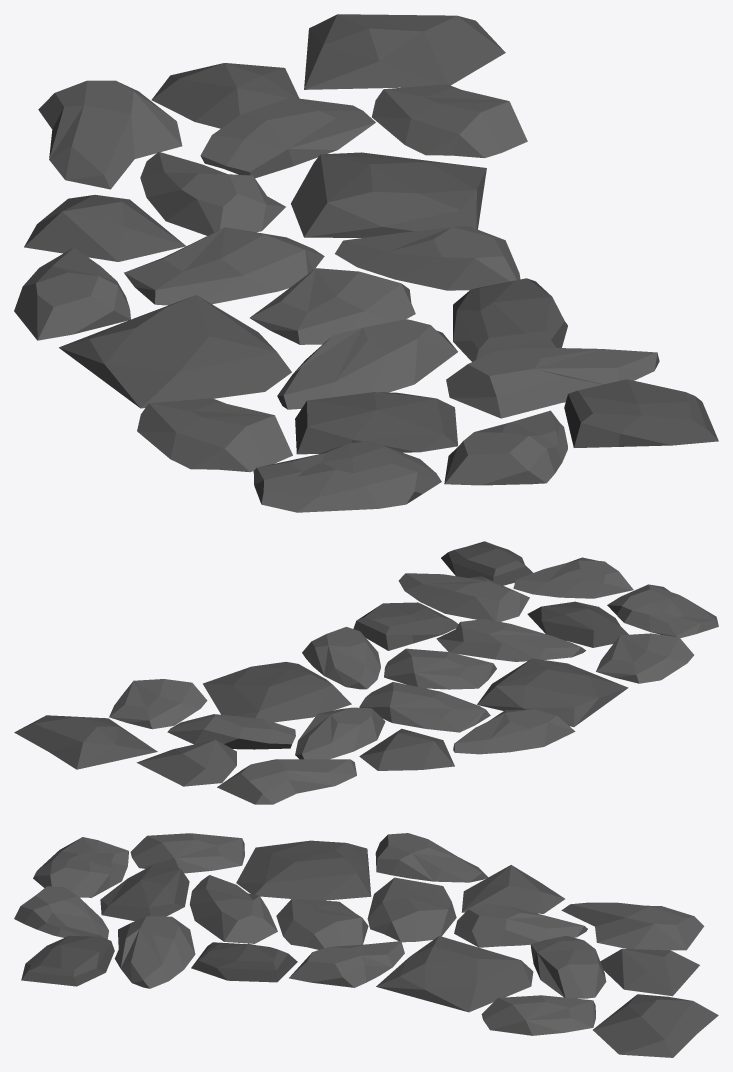
File: road_stone_smooth.fbx
The picture shows the model from 3 angles, top to bottom: view 1: azimuth 30°, elevation 25°; view 2: azimuth 150°, elevation 25°; view 3: azimuth 270°, elevation 25°; orthographic projection. The views are drawn at different scales.
Parts seen in each view (by area): view 1: road_stone_smooth; view 2: road_stone_smooth; view 3: road_stone_smooth.
Part boxes in pixels (left/top/right/bottom): road_stone_smooth: left=14, top=14, right=718, bottom=512; road_stone_smooth: left=14, top=541, right=718, bottom=804; road_stone_smooth: left=14, top=833, right=718, bottom=1057.
Bounding box in the file's own units: 219 × 10.41 × 295.
